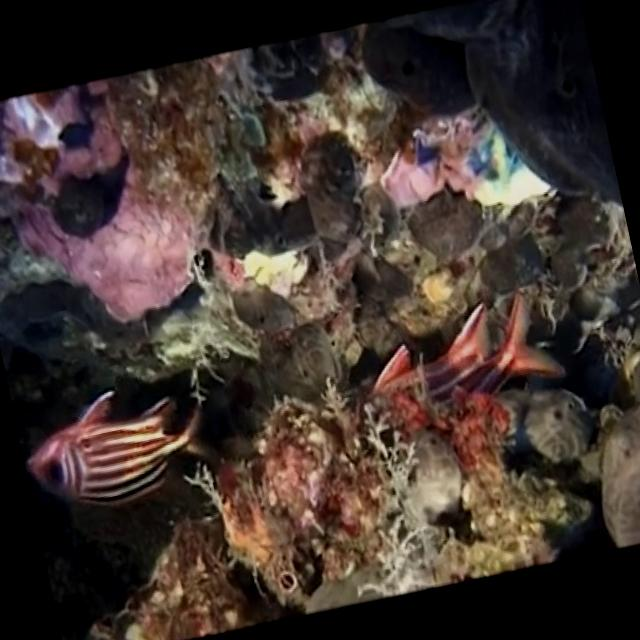Asker Baligi: (12, 366, 222, 524)
